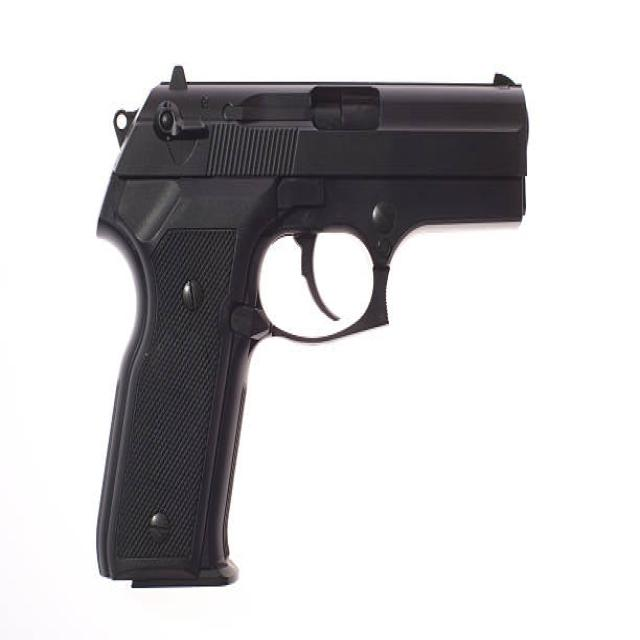pistol: (84, 64, 541, 600)
